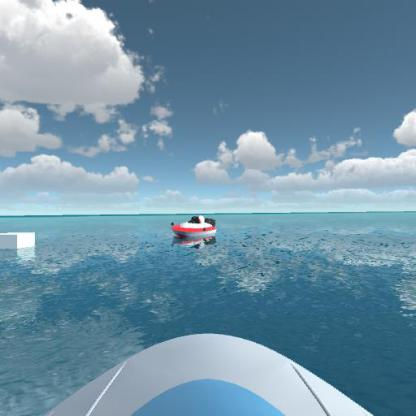usv3: (166, 210, 223, 242)
